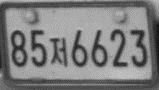2: (109, 28, 128, 68)
3: (129, 28, 148, 66)
5: (30, 29, 47, 67)
6: (70, 29, 88, 67), (90, 30, 108, 67)
8: (10, 29, 27, 66)
저: (49, 37, 67, 67)
